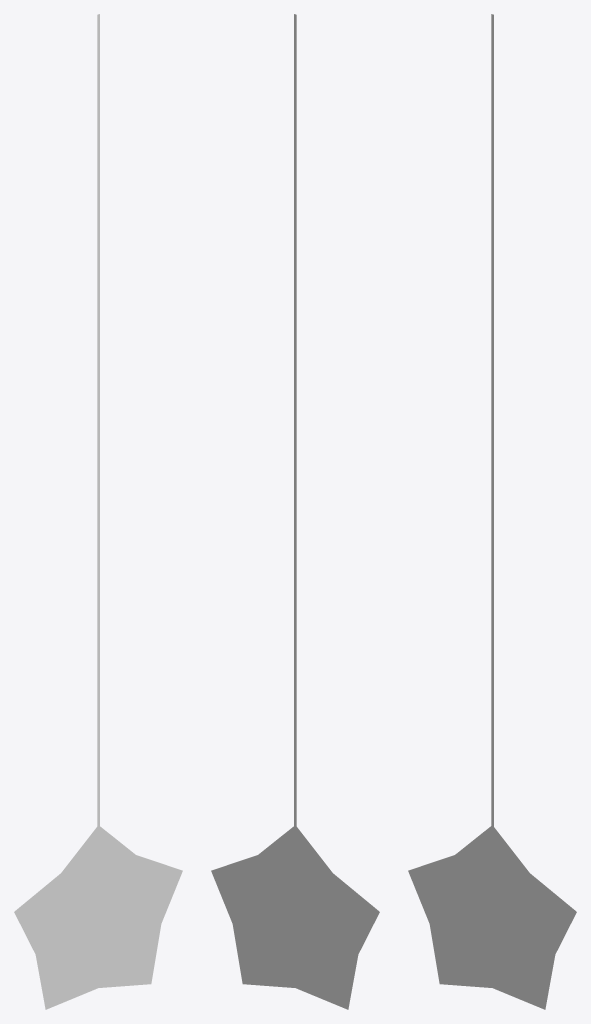
Rendered from SwingSign2.glb.
3 views of the same model, side by side, from view 1: azimuth 30°, elevation 25°; view 2: azimuth 150°, elevation 25°; view 3: azimuth 330°, elevation 25° (orthographic).
Parts seen in each view (by area): view 1: Plane.014; view 2: Plane.014; view 3: Plane.014.
Part boxes in pixels (box(x1,y1,x2,y2)): Plane.014: box(14, 14, 182, 1009); Plane.014: box(211, 14, 379, 1009); Plane.014: box(408, 14, 576, 1009).
Size of the model in its own units: 0.5963 by 3.31 by 5.21e-08.
Materials: 2 (1 with a texture image).
